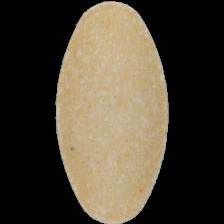0615-7779: (0, 0, 224, 224)
